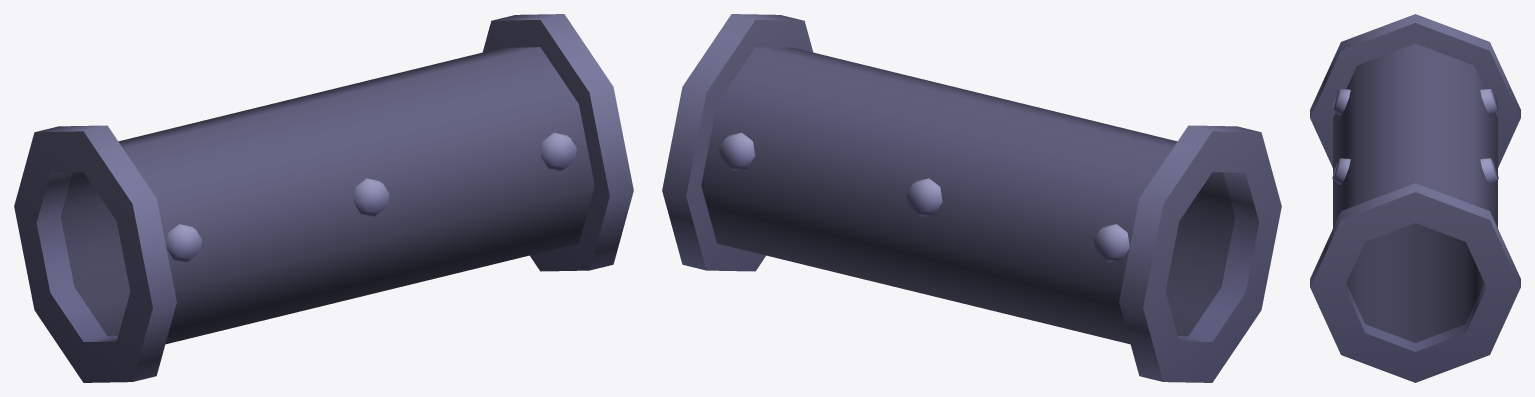
File: F_pipe-large-long.obj
3 renders of one model, left to right at view 1: azimuth 30°, elevation 25°; view 2: azimuth 150°, elevation 25°; view 3: azimuth 270°, elevation 25°, orthographic. The views are drawn at different scales.
Visible parts, largest first — view 1: pipe-large-long; view 2: pipe-large-long; view 3: pipe-large-long.
Part boxes in pixels (box(x1,y1,x2,y2)): pipe-large-long: box(14, 14, 633, 382); pipe-large-long: box(662, 14, 1281, 382); pipe-large-long: box(1310, 14, 1520, 382).
Bounding box in the file's own units: 2 × 1 × 1.
Materials: 1 (1 with a texture image).
